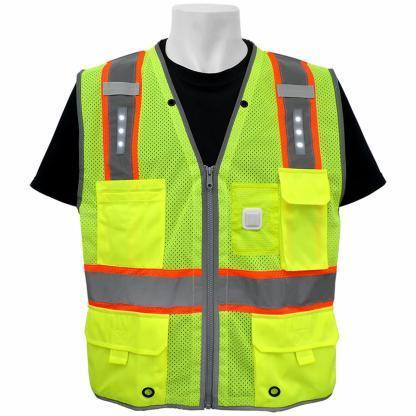vest: (75, 48, 342, 408)
